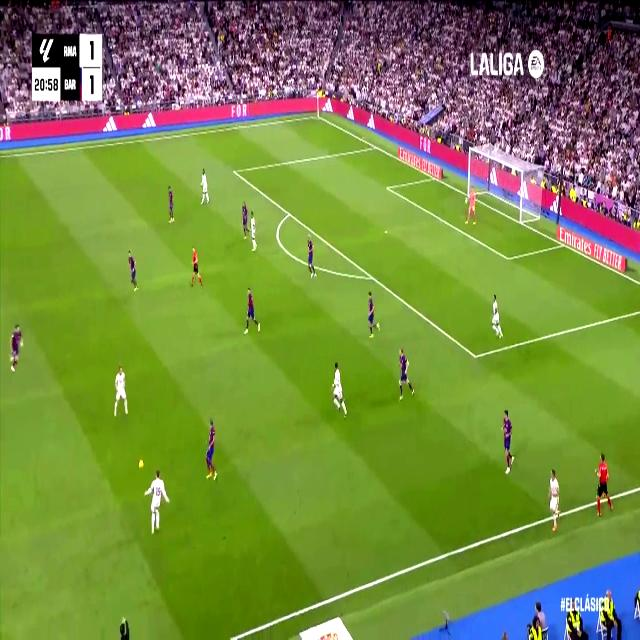bigarea_bottom_inner: (470, 345, 480, 367)
bigarea_top_inner: (232, 166, 237, 176)
bottom_arc_area_intersection: (368, 268, 376, 284)
corner: (316, 113, 320, 119)
smallarea_bottom_inner: (504, 250, 512, 266)
smallarea_top_inner: (386, 182, 390, 192)
top_arc_area_intersection: (286, 207, 292, 219)
